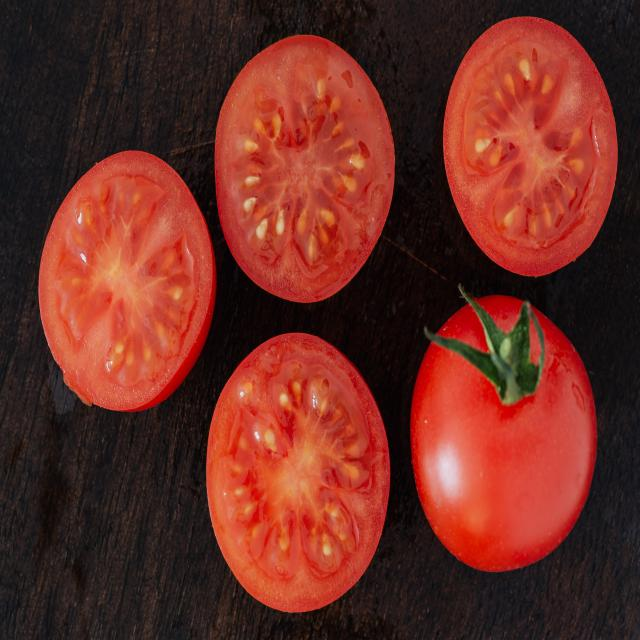Tomato: (26, 153, 221, 415), (211, 45, 400, 312), (204, 344, 390, 610), (442, 27, 615, 264)
